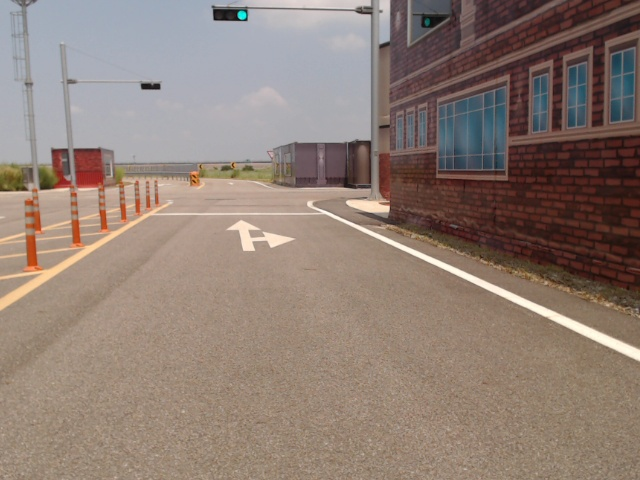green_3: (213, 9, 248, 21)
